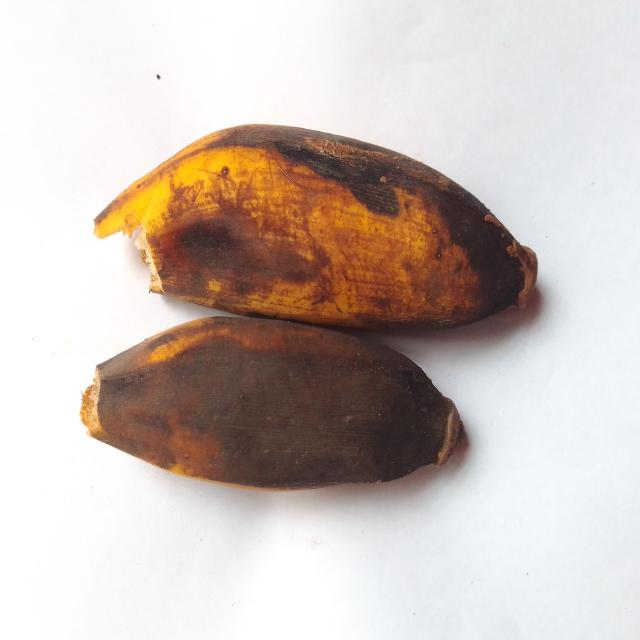banana: (95, 126, 536, 327), (81, 318, 462, 489)
